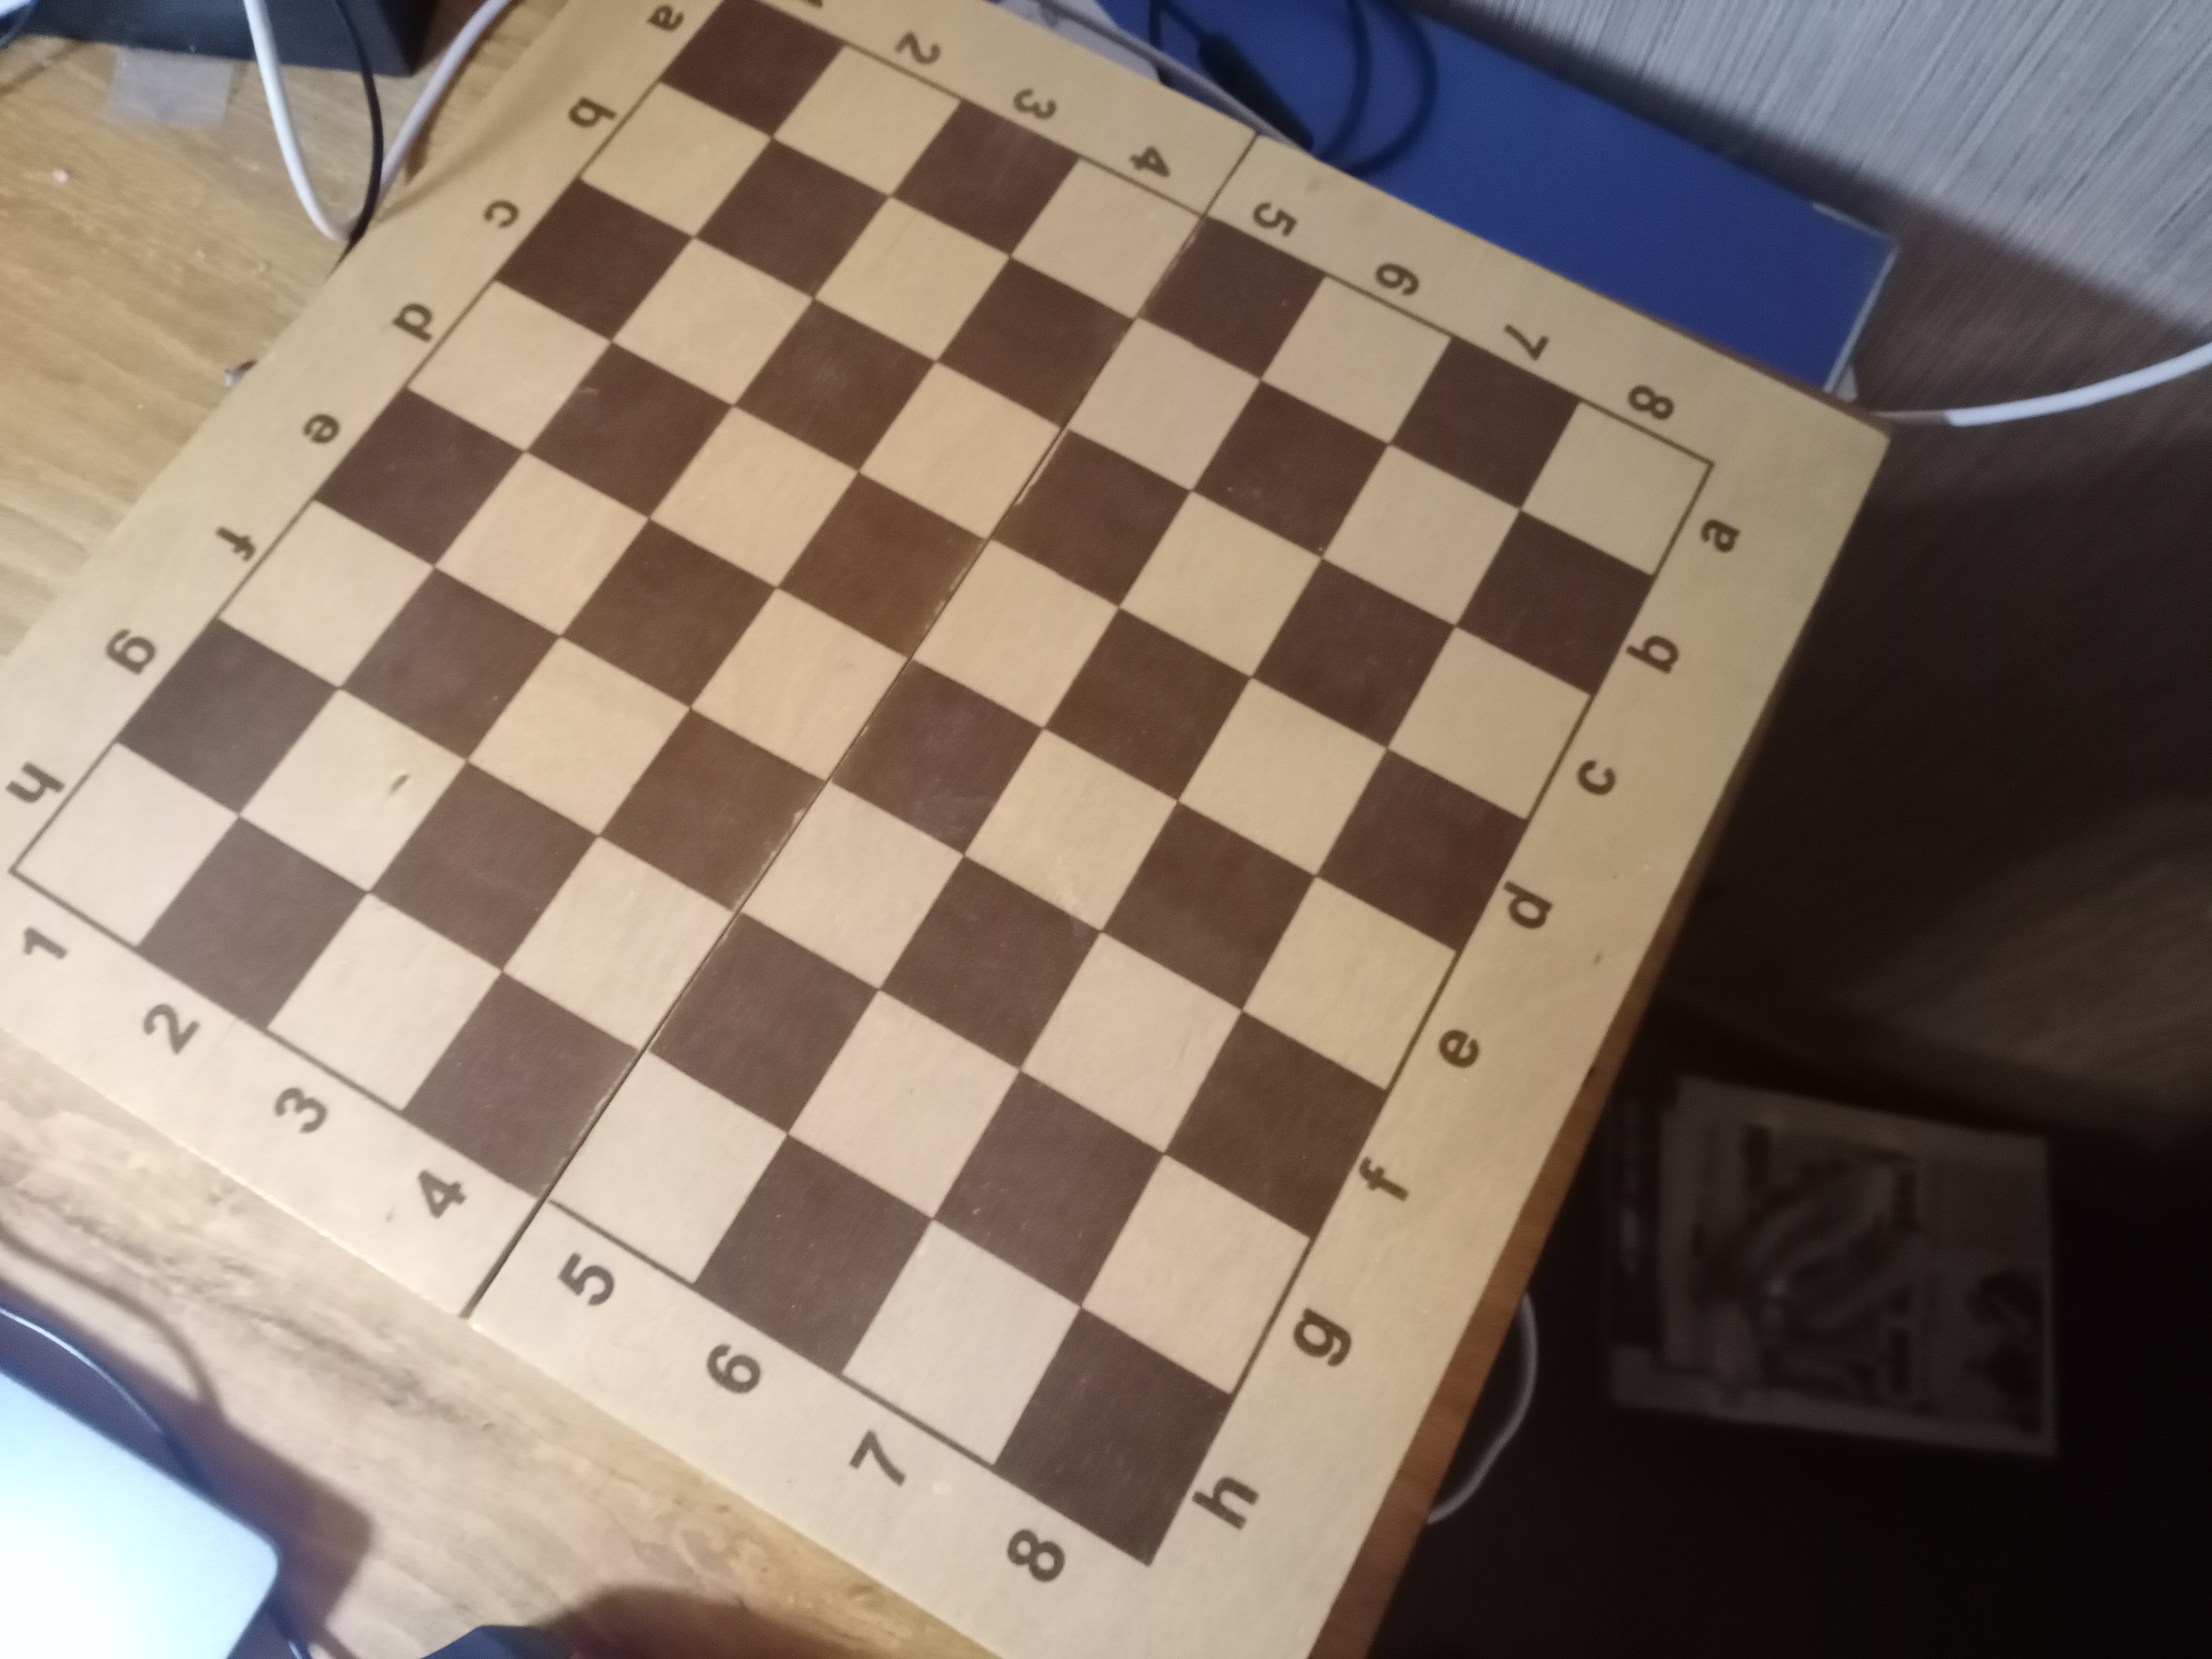Empty_Black_Cell: (989, 1309, 1233, 1565), (693, 1136, 934, 1378), (401, 972, 644, 1202), (932, 1072, 1167, 1307), (644, 910, 876, 1134), (1167, 1011, 1390, 1239), (138, 817, 368, 1033), (876, 856, 1104, 1072), (368, 762, 601, 972), (603, 711, 827, 913), (1104, 802, 1318, 1012), (113, 619, 341, 816), (338, 568, 561, 762), (1320, 751, 1531, 955), (829, 657, 1045, 856), (559, 518, 779, 709), (1043, 608, 1251, 800), (1252, 559, 1458, 751), (779, 474, 991, 659), (315, 389, 528, 570), (1458, 507, 1656, 695), (528, 340, 733, 521), (989, 427, 1193, 608), (733, 296, 939, 472), (1191, 382, 1390, 559), (1388, 333, 1581, 509), (941, 258, 1134, 427), (493, 178, 695, 338), (695, 138, 888, 298), (1136, 220, 1325, 380), (888, 99, 1082, 254), (653, 0, 850, 136)
